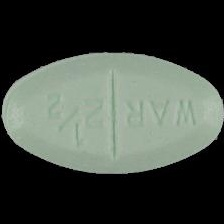21695-674: (0, 0, 224, 224)
